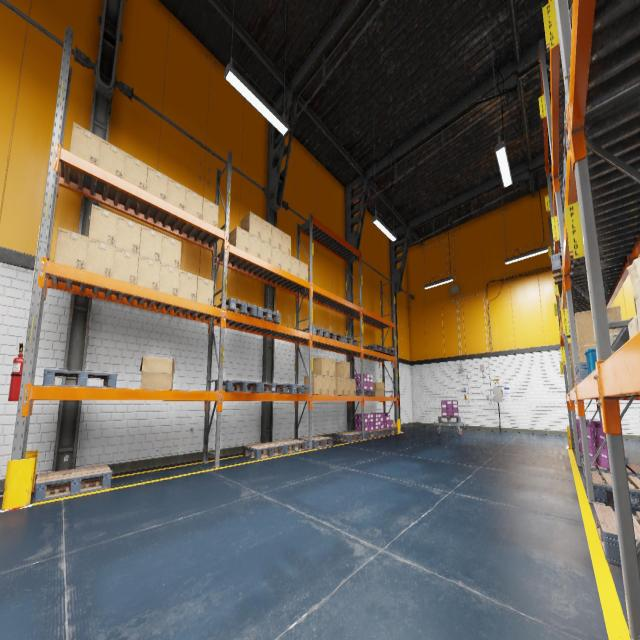box: (574, 305, 622, 351), (54, 227, 88, 270), (70, 122, 101, 165), (88, 204, 118, 246), (85, 238, 115, 277), (140, 356, 174, 389), (98, 138, 125, 178), (115, 215, 141, 255), (112, 247, 139, 285), (626, 257, 640, 330), (123, 152, 148, 190), (139, 225, 162, 263), (146, 165, 168, 201), (137, 256, 160, 290), (158, 263, 180, 296), (161, 234, 181, 269), (178, 270, 198, 301), (167, 178, 186, 210), (240, 211, 261, 239), (185, 188, 203, 219), (196, 276, 214, 306), (229, 226, 249, 252), (202, 197, 218, 227), (304, 375, 322, 394), (312, 356, 329, 376), (579, 344, 595, 362), (249, 233, 260, 258), (261, 218, 271, 244), (335, 361, 350, 378), (628, 316, 639, 339), (260, 240, 271, 263), (281, 231, 291, 256), (272, 225, 282, 250), (271, 246, 281, 268), (371, 382, 385, 397), (299, 261, 308, 281), (282, 250, 290, 272), (291, 256, 299, 277), (336, 378, 344, 396), (322, 376, 329, 394), (329, 358, 335, 377), (329, 376, 335, 395), (636, 276, 640, 304), (344, 378, 350, 395), (569, 343, 573, 368), (350, 379, 356, 395), (572, 366, 575, 388), (571, 369, 574, 388), (571, 369, 573, 388), (578, 351, 580, 361)
pallets: (564, 82, 639, 176), (33, 464, 112, 502), (593, 504, 640, 566), (592, 471, 640, 509), (582, 459, 640, 484), (42, 369, 118, 388), (216, 298, 257, 317), (243, 442, 284, 460), (580, 452, 628, 465), (271, 439, 307, 455), (215, 380, 260, 392), (250, 306, 280, 324), (300, 436, 333, 449), (551, 252, 562, 284), (300, 326, 328, 338), (260, 382, 286, 394), (335, 431, 363, 442), (575, 362, 588, 384), (286, 384, 310, 394), (352, 430, 378, 439), (562, 160, 566, 213), (323, 332, 343, 342), (363, 344, 385, 353), (338, 337, 358, 346), (376, 347, 395, 356), (438, 416, 461, 423), (374, 428, 388, 437), (356, 390, 375, 396), (558, 272, 562, 297), (383, 428, 398, 434), (559, 320, 560, 330), (574, 441, 575, 451), (560, 310, 560, 325)
